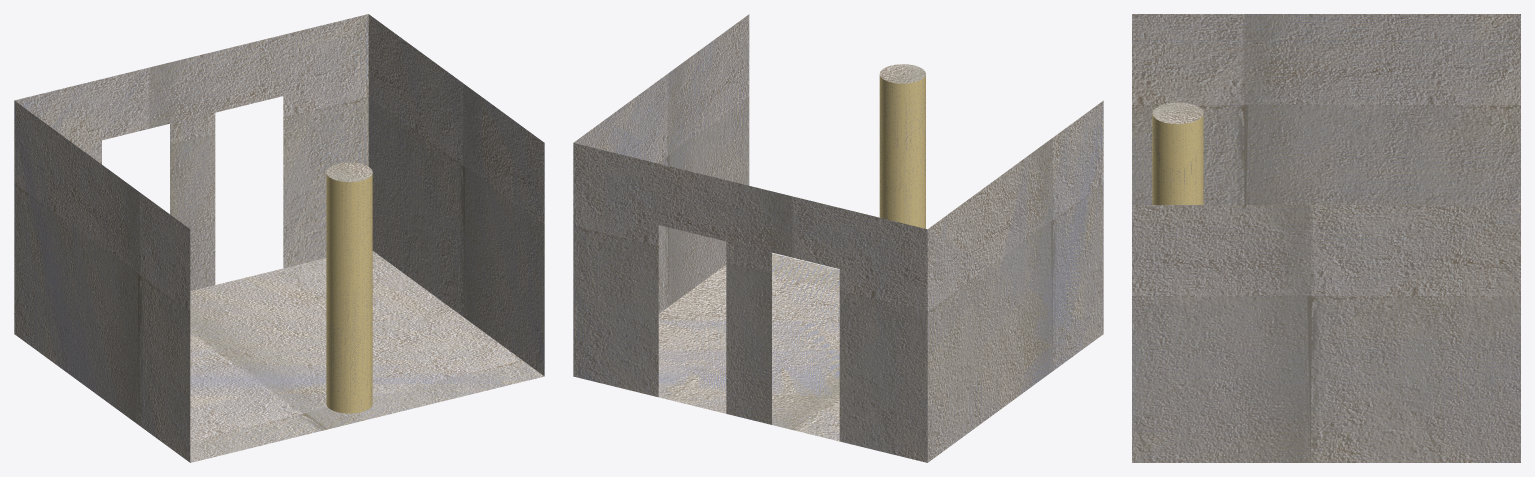
File: COM057.obj
3 views of the same model, side by side, from view 1: azimuth 30°, elevation 25°; view 2: azimuth 150°, elevation 25°; view 3: azimuth 270°, elevation 25° (orthographic). The views are drawn at different scales.
Parts seen in each view (by area): view 1: Mesh4 COM057 Model, Mesh1 Group1 COM057 Model; view 2: Mesh4 COM057 Model, Mesh1 Group1 COM057 Model; view 3: Mesh4 COM057 Model, Mesh1 Group1 COM057 Model.
Boxes of the visible parts, x1,y1,x2,y2 form: Mesh4 COM057 Model: [14, 14, 544, 462]; Mesh1 Group1 COM057 Model: [326, 162, 372, 413]; Mesh4 COM057 Model: [573, 14, 1103, 462]; Mesh1 Group1 COM057 Model: [879, 64, 925, 228]; Mesh4 COM057 Model: [1132, 14, 1520, 462]; Mesh1 Group1 COM057 Model: [1152, 102, 1203, 204].
Bounding box in the file's own units: 4.77 × 3 × 4.1.
3 materials, 1 textured.
